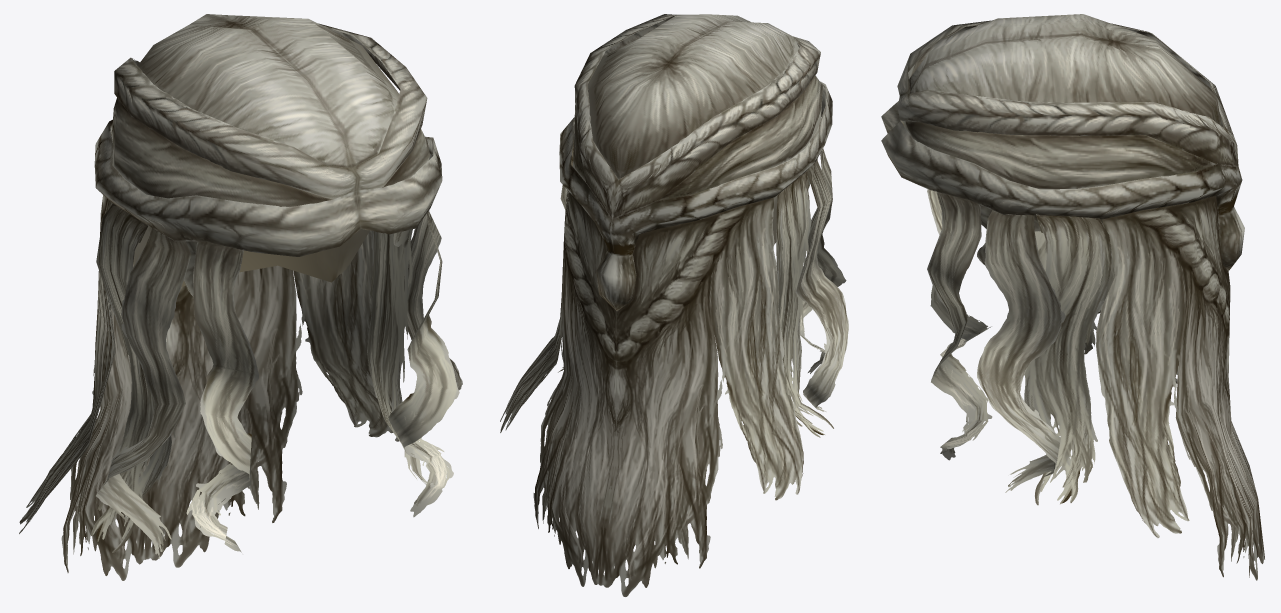
File: F_jichufaxing04.FBX
3 views of the same model, side by side, from view 1: azimuth 30°, elevation 25°; view 2: azimuth 150°, elevation 25°; view 3: azimuth 270°, elevation 25° (orthographic). The views are drawn at different scales.
Parts seen in each view (by area): view 1: F_jichufaxing04; view 2: F_jichufaxing04; view 3: F_jichufaxing04.
Part boxes in pixels (x1,y1,x2,y2): F_jichufaxing04: (19,14,462,580); F_jichufaxing04: (500,14,848,596); F_jichufaxing04: (881,14,1264,580).
Size of the model in its own units: 26.38 by 38.92 by 25.06.
Materials: 1 (1 with a texture image).
